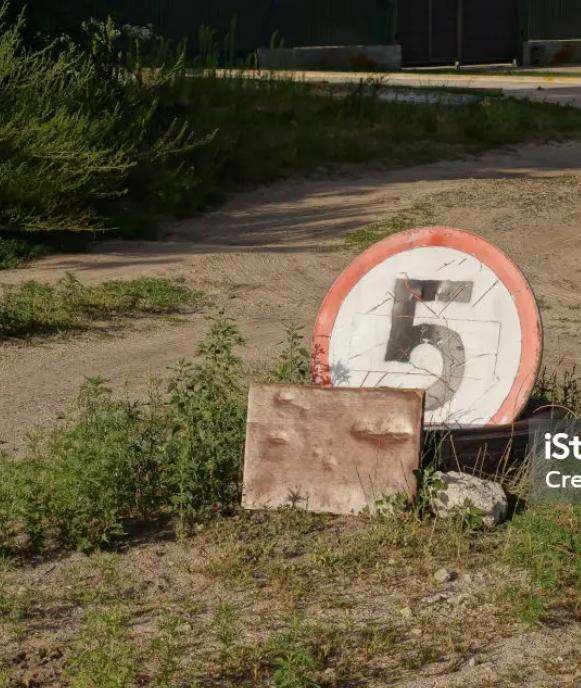obstructed_road_sign: (316, 229, 539, 428)
